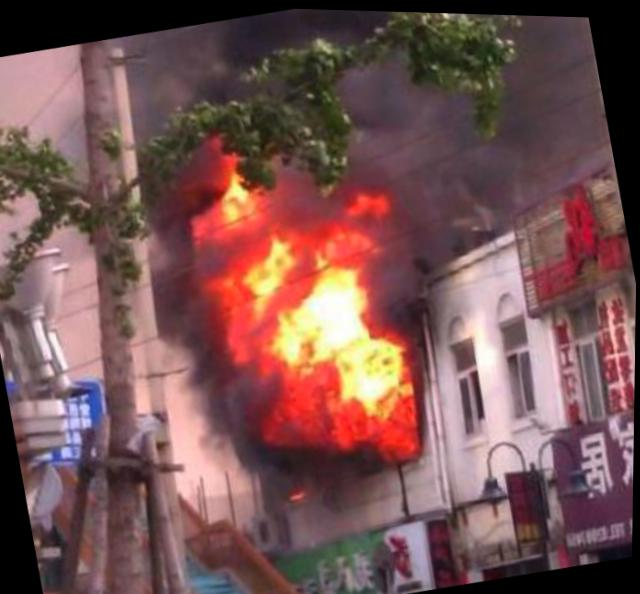fire: (236, 208, 427, 464), (202, 244, 263, 369), (190, 160, 264, 240), (333, 179, 403, 223)
